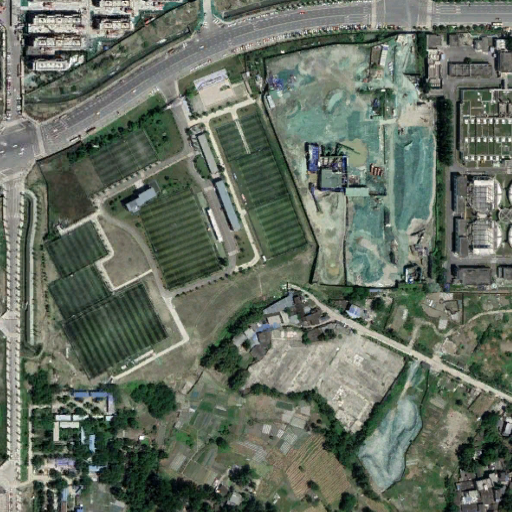cw: (263, 32, 436, 287), (357, 361, 425, 492)
